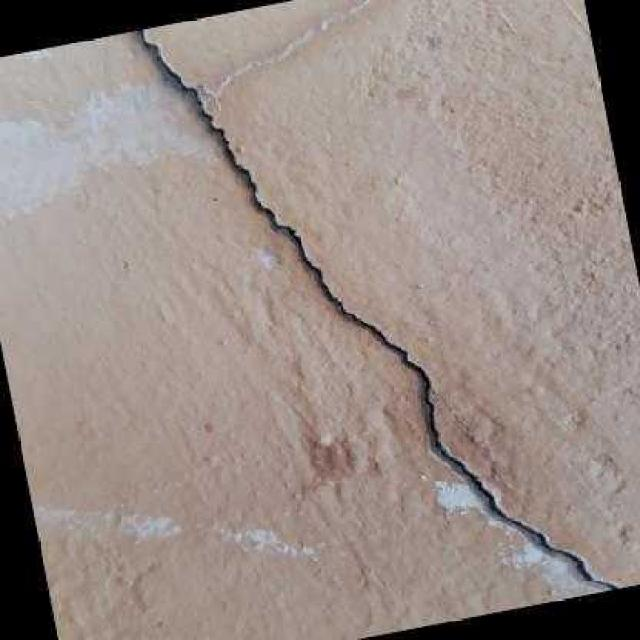D00: (135, 28, 620, 590)
